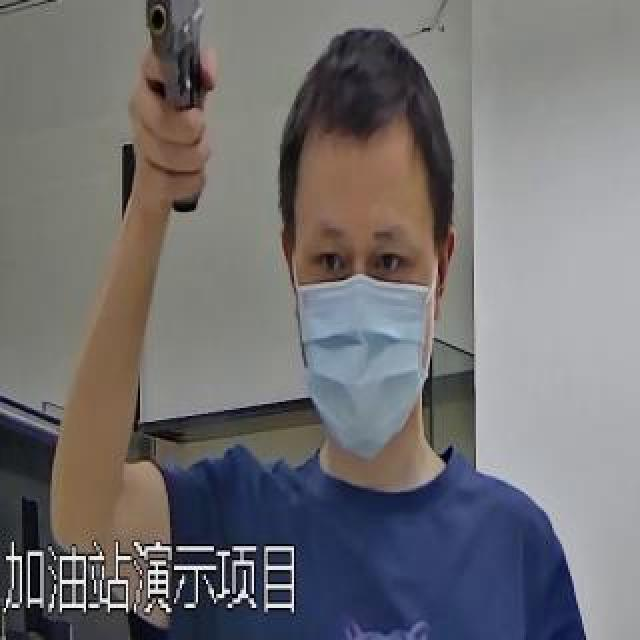Guns: (128, 0, 242, 246)
